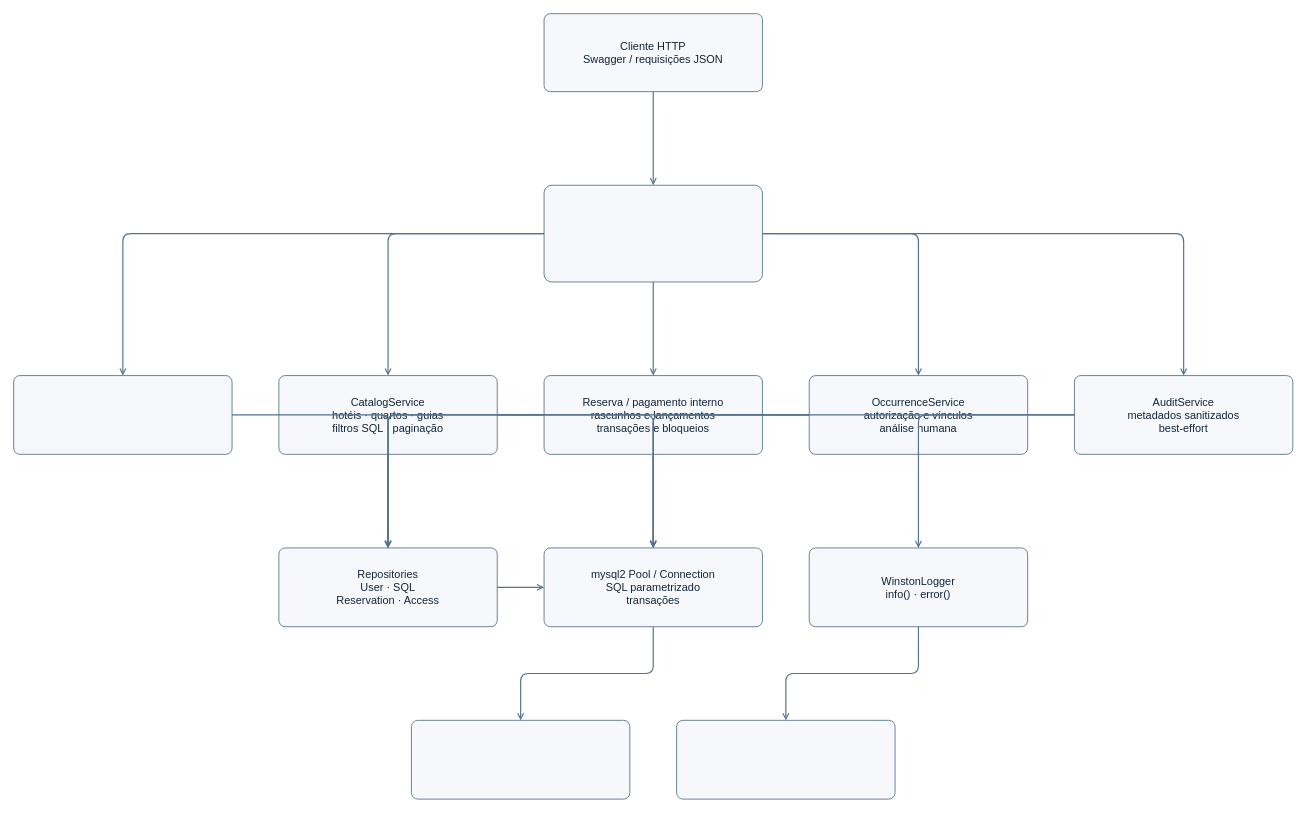
Image size: 1307x813. Some labels were removed from this diagram. The centre of each missing label's shape, as x and y in pixels:
AuthService bcrypt · JWT revogação de sessão: the point at 122,414
ExpressAPI Node.js 22 · Express rotas · controllers · middlewares Zod 4: the point at 652,233
MySQL 8.0 / 8.4 40 tabelas ambientes locais isolados: the point at 520,759
Stdout / arquivo opcional eventos JSON: the point at 785,759
